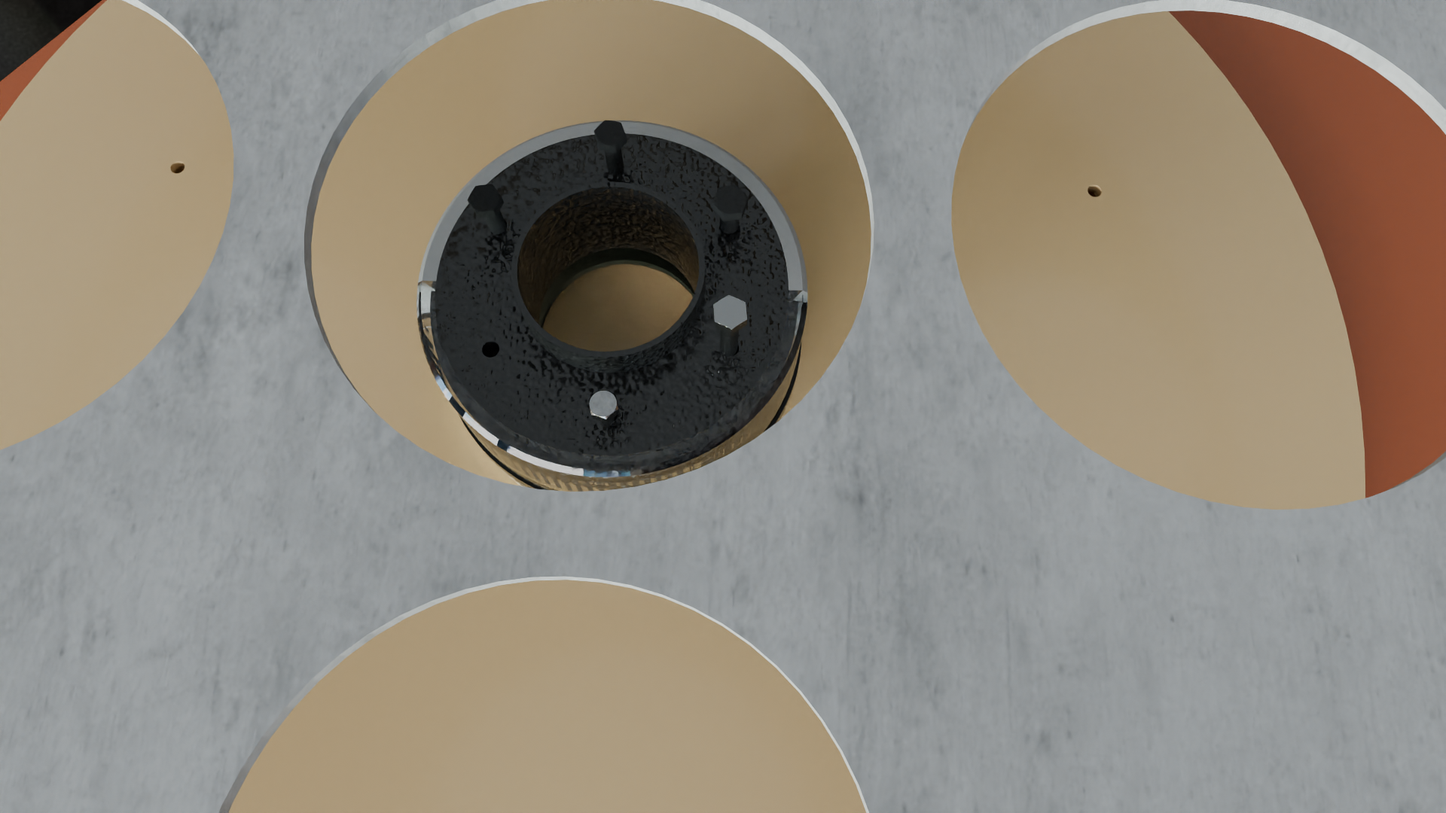bolt: (713, 295, 747, 330), (712, 185, 749, 216), (468, 184, 502, 212), (588, 390, 618, 419), (594, 120, 626, 147)
